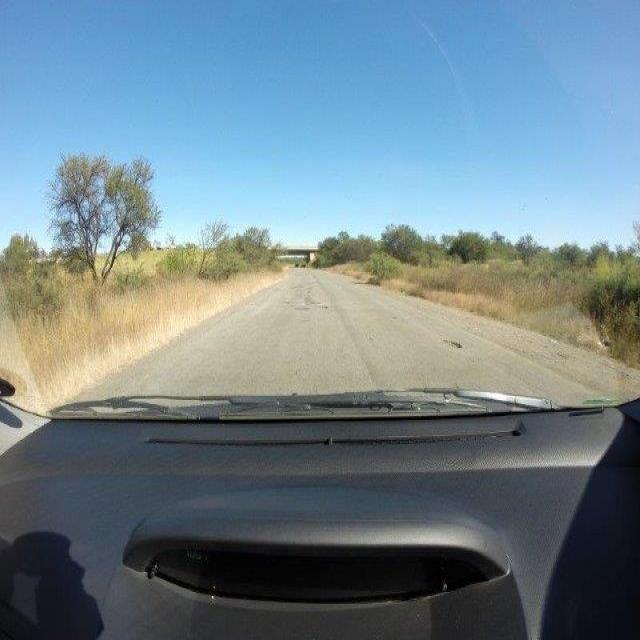lubang: (290, 284, 328, 313), (440, 334, 464, 352)
